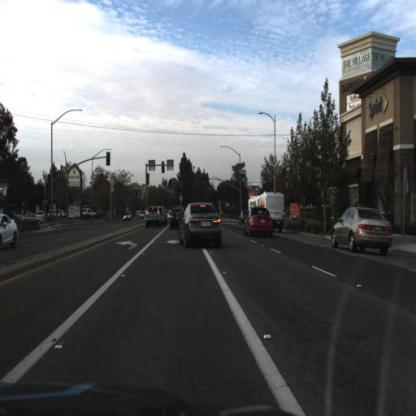car: (328, 209, 399, 260), (332, 206, 394, 255), (180, 202, 224, 248), (244, 207, 275, 239), (246, 210, 275, 239), (1, 213, 21, 251), (170, 208, 184, 229), (146, 208, 162, 226), (239, 207, 248, 224), (123, 210, 133, 223), (139, 213, 147, 221)
trafficLight: (106, 148, 114, 171), (161, 161, 168, 178), (147, 172, 151, 187)
trafficLight-Green: (201, 174, 209, 190), (178, 184, 184, 198), (169, 181, 173, 190)
truck: (256, 191, 286, 232), (256, 191, 289, 228)
